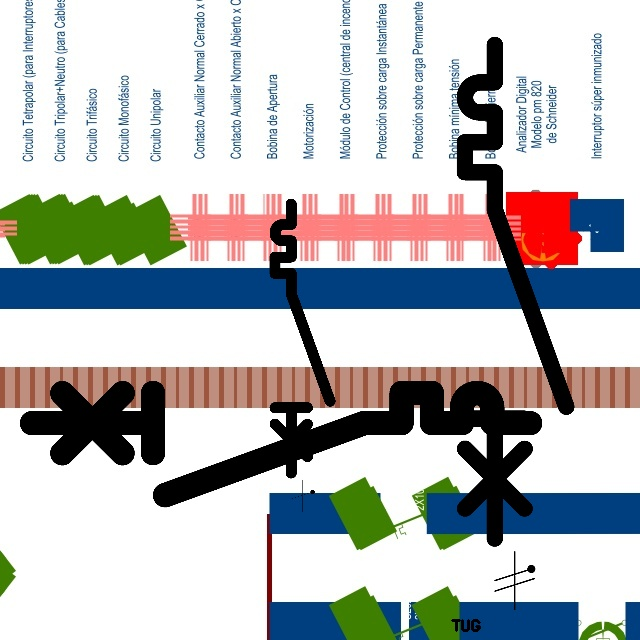interruptor_termomagnetico: (19, 380, 543, 508), (452, 32, 579, 551), (268, 197, 337, 479)
